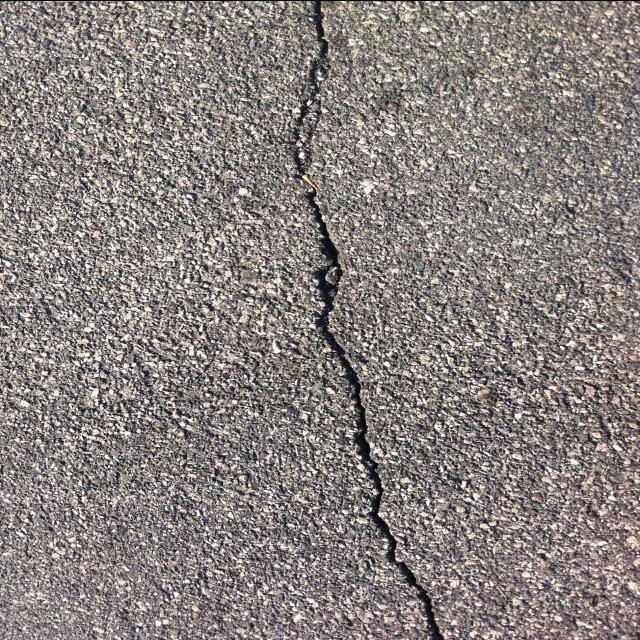Crack: (294, 0, 450, 640)
